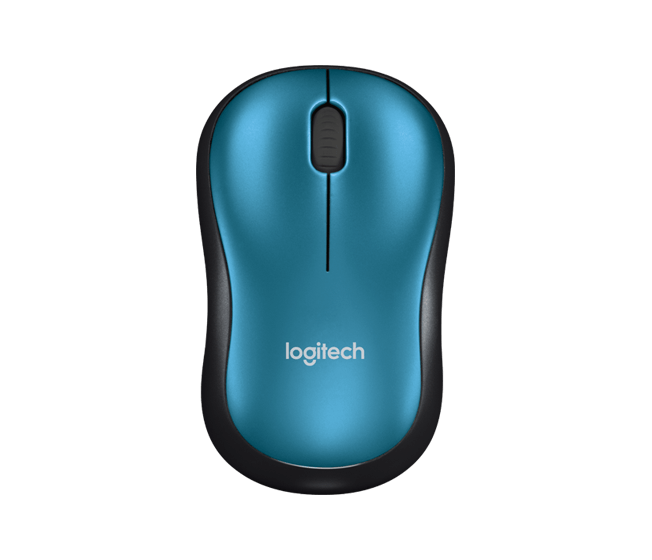logitech-mouse-m185: (192, 64, 458, 491)
